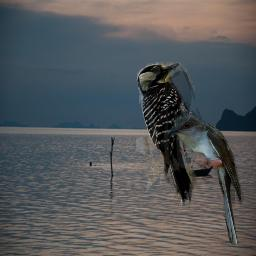Cuckoo: (165, 115, 244, 245)
Woodpecker: (136, 62, 207, 208)
